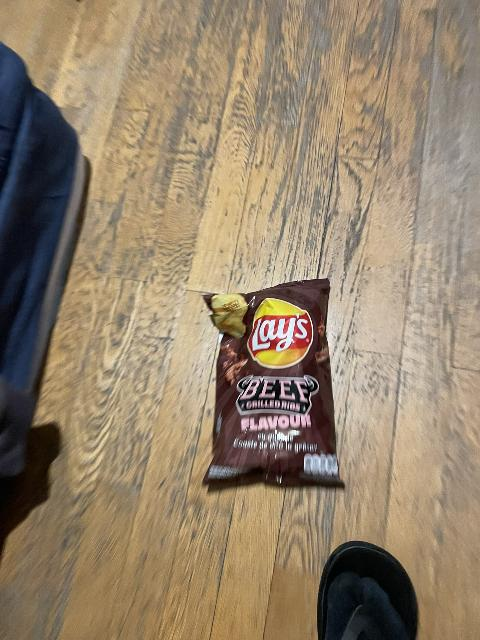Lays Beef Grilled Ribs 125g: (203, 280, 348, 485)
